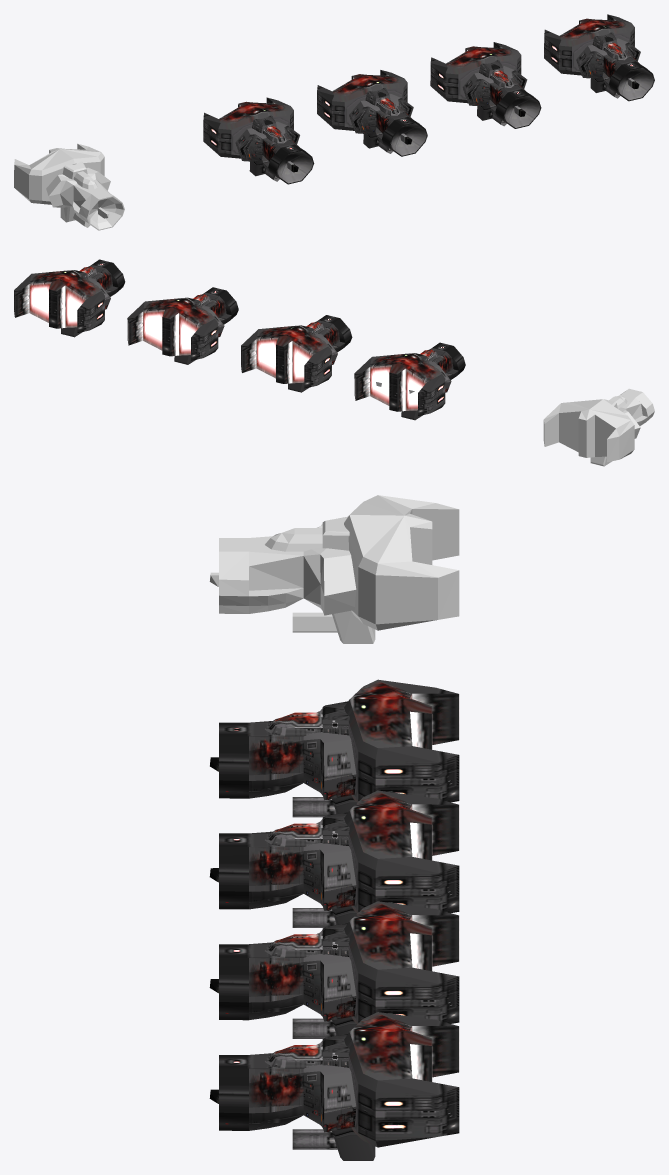
Rendered from hgn_bst_recon.dae.
3 views of the same model, one above another, from view 1: azimuth 30°, elevation 25°; view 2: azimuth 150°, elevation 25°; view 3: azimuth 270°, elevation 25° (orthographic). The views are drawn at different scales.
Parts seen in each view (by area): view 1: MULT[root_mesh]_LOD[2], COL[Root], MULT[root_mesh]_LOD[1], MULT[root_mesh]_LOD[3], MULT[root_mesh]_LOD[0]; view 2: COL[Root], MULT[root_mesh]_LOD[2], MULT[root_mesh]_LOD[3], MULT[root_mesh]_LOD[0], MULT[root_mesh]_LOD[1]; view 3: MULT[root_mesh]_LOD[3], COL[Root], MULT[root_mesh]_LOD[0], MULT[root_mesh]_LOD[2], MULT[root_mesh]_LOD[1].
Part boxes in pixels (x1=…): MULT[root_mesh]_LOD[2]: x1=430, y1=42, x2=541, y2=128; COL[Root]: x1=14, y1=143, x2=124, y2=230; MULT[root_mesh]_LOD[1]: x1=317, y1=70, x2=427, y2=156; MULT[root_mesh]_LOD[3]: x1=544, y1=14, x2=654, y2=101; MULT[root_mesh]_LOD[0]: x1=203, y1=97, x2=314, y2=184; COL[Root]: x1=543, y1=388, x2=654, y2=466; MULT[root_mesh]_LOD[2]: x1=127, y1=287, x2=238, y2=364; MULT[root_mesh]_LOD[3]: x1=14, y1=259, x2=125, y2=337; MULT[root_mesh]_LOD[0]: x1=354, y1=342, x2=465, y2=420; MULT[root_mesh]_LOD[1]: x1=241, y1=315, x2=352, y2=392; MULT[root_mesh]_LOD[3]: x1=209, y1=1012, x2=459, y2=1160; COL[Root]: x1=209, y1=495, x2=459, y2=643; MULT[root_mesh]_LOD[0]: x1=210, y1=679, x2=459, y2=817; MULT[root_mesh]_LOD[2]: x1=209, y1=901, x2=459, y2=1038; MULT[root_mesh]_LOD[1]: x1=209, y1=790, x2=459, y2=927.
Bounding box in the file's own units: 89.71 × 8.68 × 16.01.
23 materials, 23 textured.
